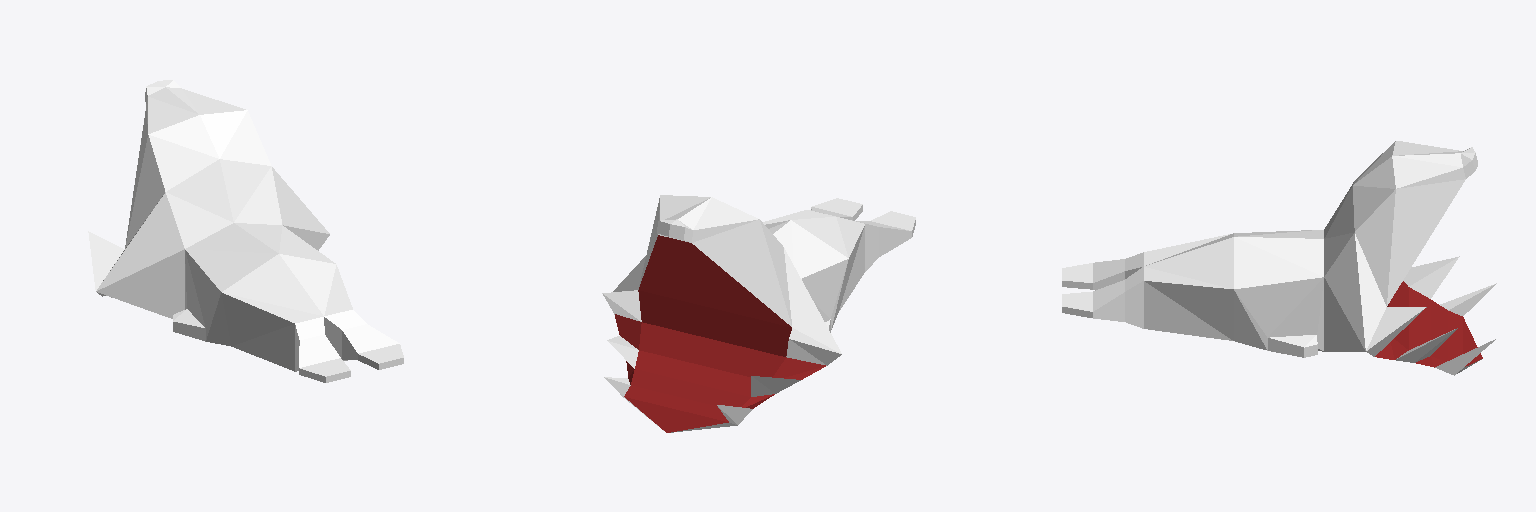
The picture shows the model from 3 angles: view 1: azimuth 30°, elevation 25°; view 2: azimuth 150°, elevation 25°; view 3: azimuth 270°, elevation 25°; orthographic projection.
Parts seen in each view (by area): view 1: Cube; view 2: Cube; view 3: Cube.
Boxes of the visible parts, <box> form: Cube: <box>88,80,403,382</box>; Cube: <box>602,195,915,432</box>; Cube: <box>1062,141,1496,375</box>.
Bounding box in the file's own units: 0.9387 × 0.7915 × 1.51.
1 materials, 1 textured.